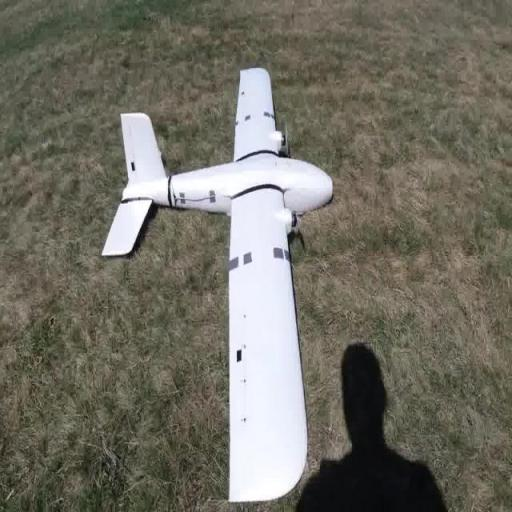uav: (96, 52, 338, 512)
